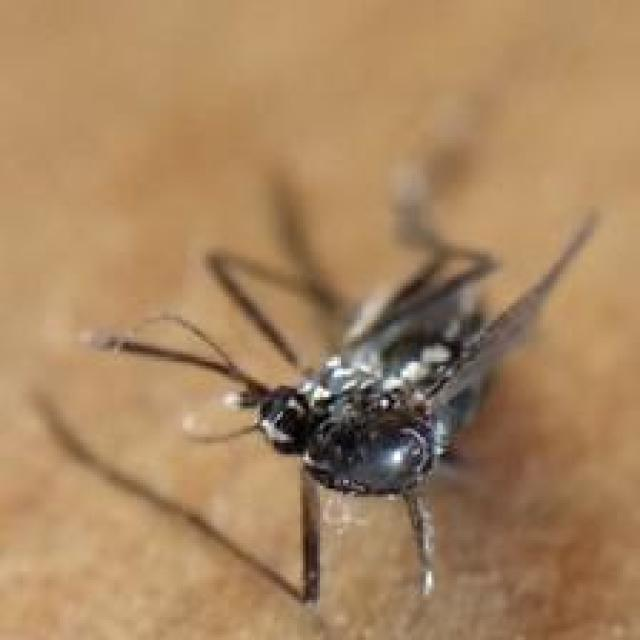Aedes albopictus: (61, 160, 602, 609)
